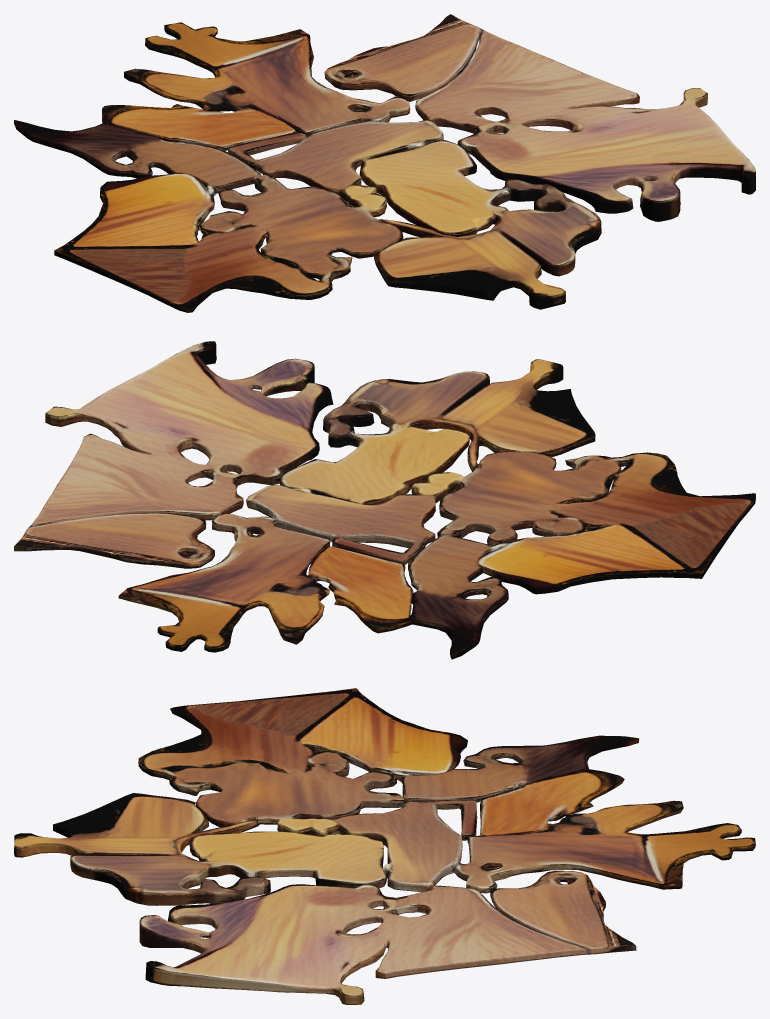
Rendered from wooden-jigsaw-puzzle-futuristic.jpeg.glb.
3 renders of one model, top to bottom at view 1: azimuth 30°, elevation 25°; view 2: azimuth 150°, elevation 25°; view 3: azimuth 270°, elevation 25°, orthographic. The views are drawn at different scales.
Visible parts, largest first — view 1: world; view 2: world; view 3: world.
Boxes of the visible parts, left/top/right/bottom form: world: left=14, top=14, right=755, bottom=312; world: left=14, top=341, right=755, bottom=659; world: left=14, top=688, right=755, bottom=1004.
Size of the model in its own units: 0.99 by 0.0292 by 1.
1 material, 1 textured.
